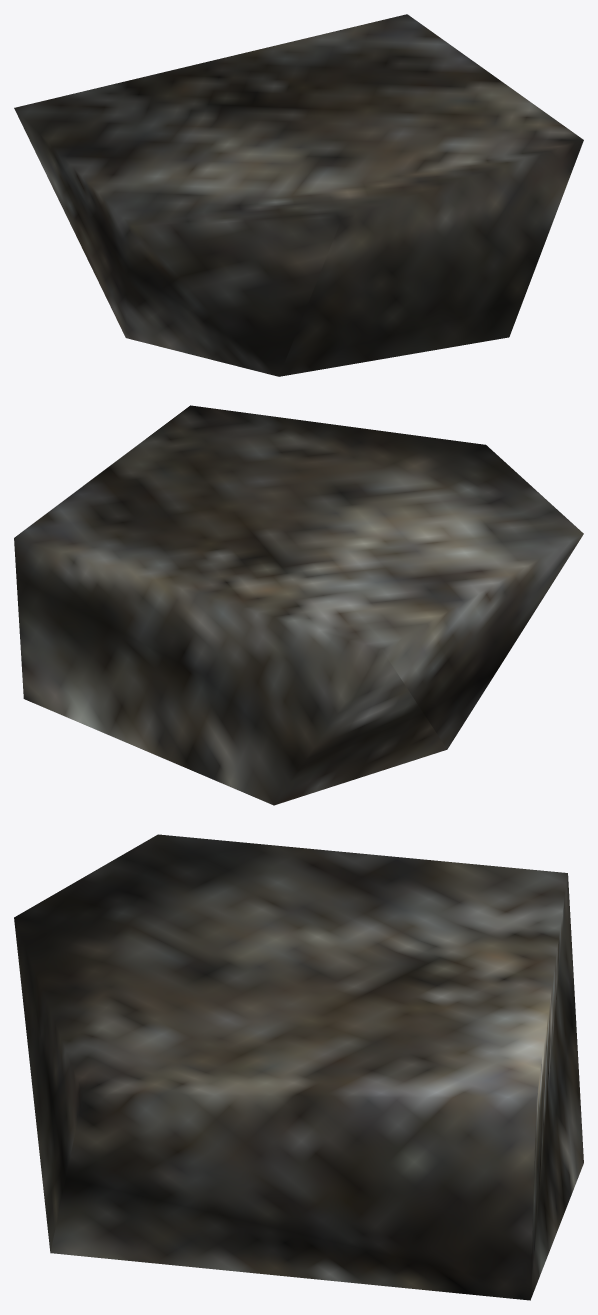
Rendered from Rock2_6_LOD1.fbx.
3 views of the same model, one above another, from view 1: azimuth 30°, elevation 25°; view 2: azimuth 150°, elevation 25°; view 3: azimuth 270°, elevation 25° (orthographic). The views are drawn at different scales.
Visible parts, largest first — view 1: polySurface14; view 2: polySurface14; view 3: polySurface14.
Boxes of the visible parts, left/top/right/bottom form: polySurface14: left=14, top=14, right=583, bottom=376; polySurface14: left=14, top=405, right=583, bottom=805; polySurface14: left=14, top=834, right=583, bottom=1300.
Bounding box in the file's own units: 1.06 × 0.4713 × 0.9678.
